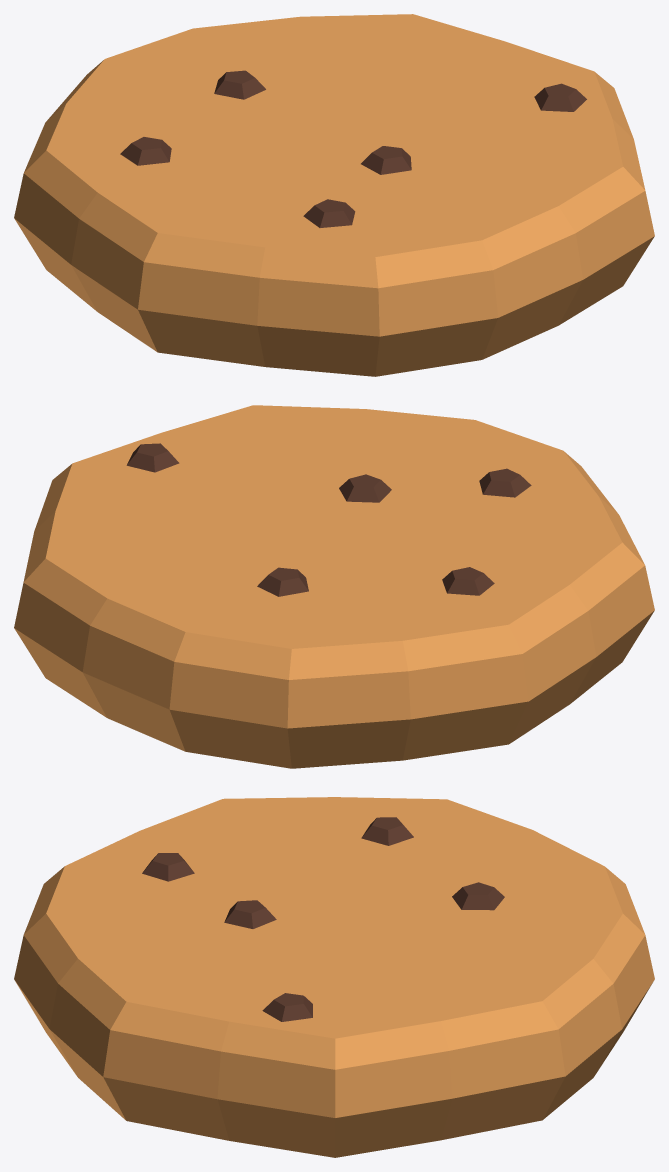
Rendered from CV3_CookieS.fbx.
3 views of the same model, one above another, from view 1: azimuth 30°, elevation 25°; view 2: azimuth 150°, elevation 25°; view 3: azimuth 270°, elevation 25° (orthographic).
Visible parts, largest first — view 1: CV3_CookieS_Dough, CV3_CookieS_Chips; view 2: CV3_CookieS_Dough, CV3_CookieS_Chips; view 3: CV3_CookieS_Dough, CV3_CookieS_Chips.
Part boxes in pixels (bbox=[...]): CV3_CookieS_Dough: bbox=[14, 14, 654, 376]; CV3_CookieS_Chips: bbox=[120, 70, 586, 227]; CV3_CookieS_Dough: bbox=[14, 405, 654, 768]; CV3_CookieS_Chips: bbox=[126, 443, 531, 596]; CV3_CookieS_Dough: bbox=[14, 797, 654, 1157]; CV3_CookieS_Chips: bbox=[142, 817, 504, 1021].
Size of the model in its own units: 7.72 by 1.75 by 7.79.
